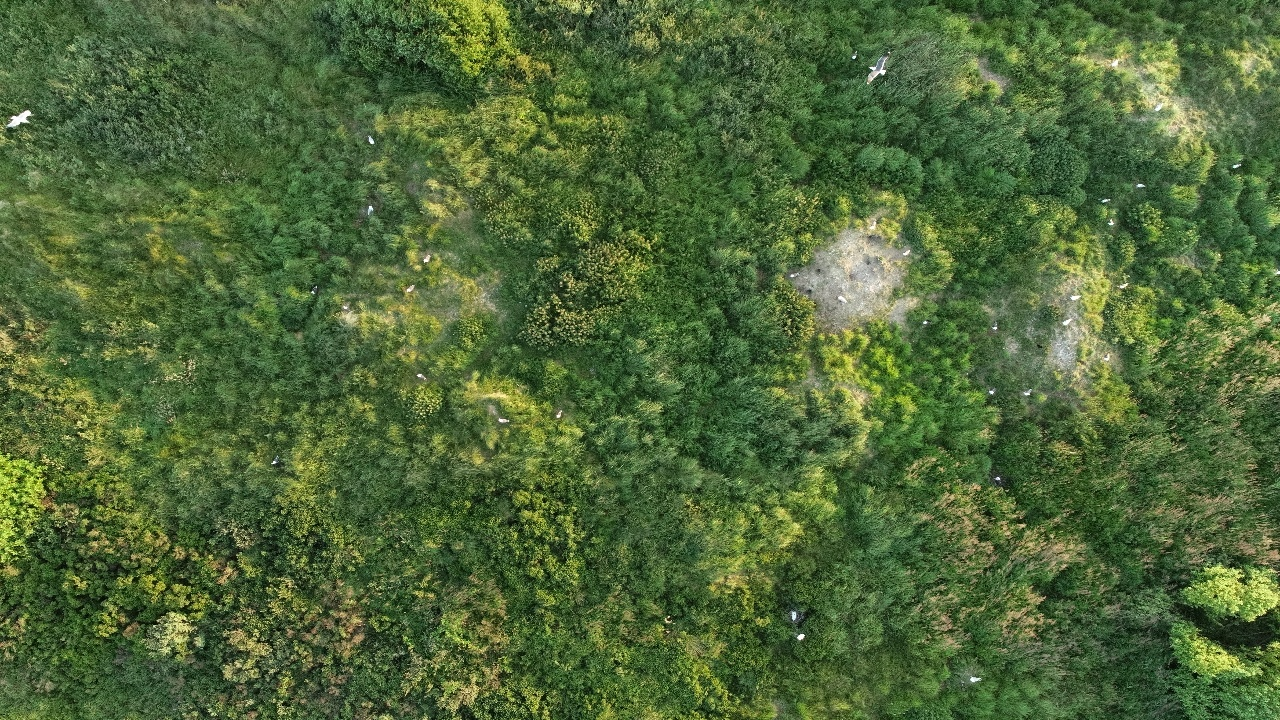Bird: (2, 102, 43, 140), (859, 48, 892, 90), (357, 127, 385, 154), (355, 193, 383, 220), (303, 273, 331, 300), (393, 274, 421, 301), (416, 246, 444, 273), (409, 361, 437, 388), (264, 446, 292, 473), (488, 405, 516, 432), (546, 401, 574, 428), (781, 600, 809, 627), (788, 621, 816, 648), (963, 666, 991, 693), (1017, 377, 1045, 404), (979, 375, 1007, 402), (913, 306, 941, 333), (892, 238, 920, 265), (860, 213, 888, 240), (783, 258, 811, 285), (828, 284, 856, 311), (1092, 340, 1120, 367), (1107, 271, 1135, 298), (1062, 280, 1090, 307), (1050, 310, 1078, 337), (1102, 207, 1130, 234), (982, 316, 1010, 343), (1091, 187, 1119, 214), (1129, 172, 1157, 199), (1220, 151, 1248, 178), (986, 468, 1014, 495), (1147, 95, 1175, 121), (1104, 50, 1132, 76), (839, 41, 867, 67)
